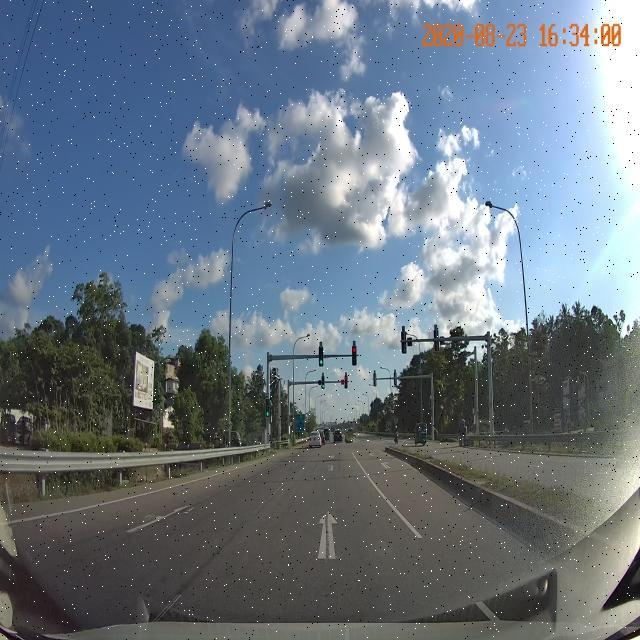forward: (199, 511, 451, 571)
